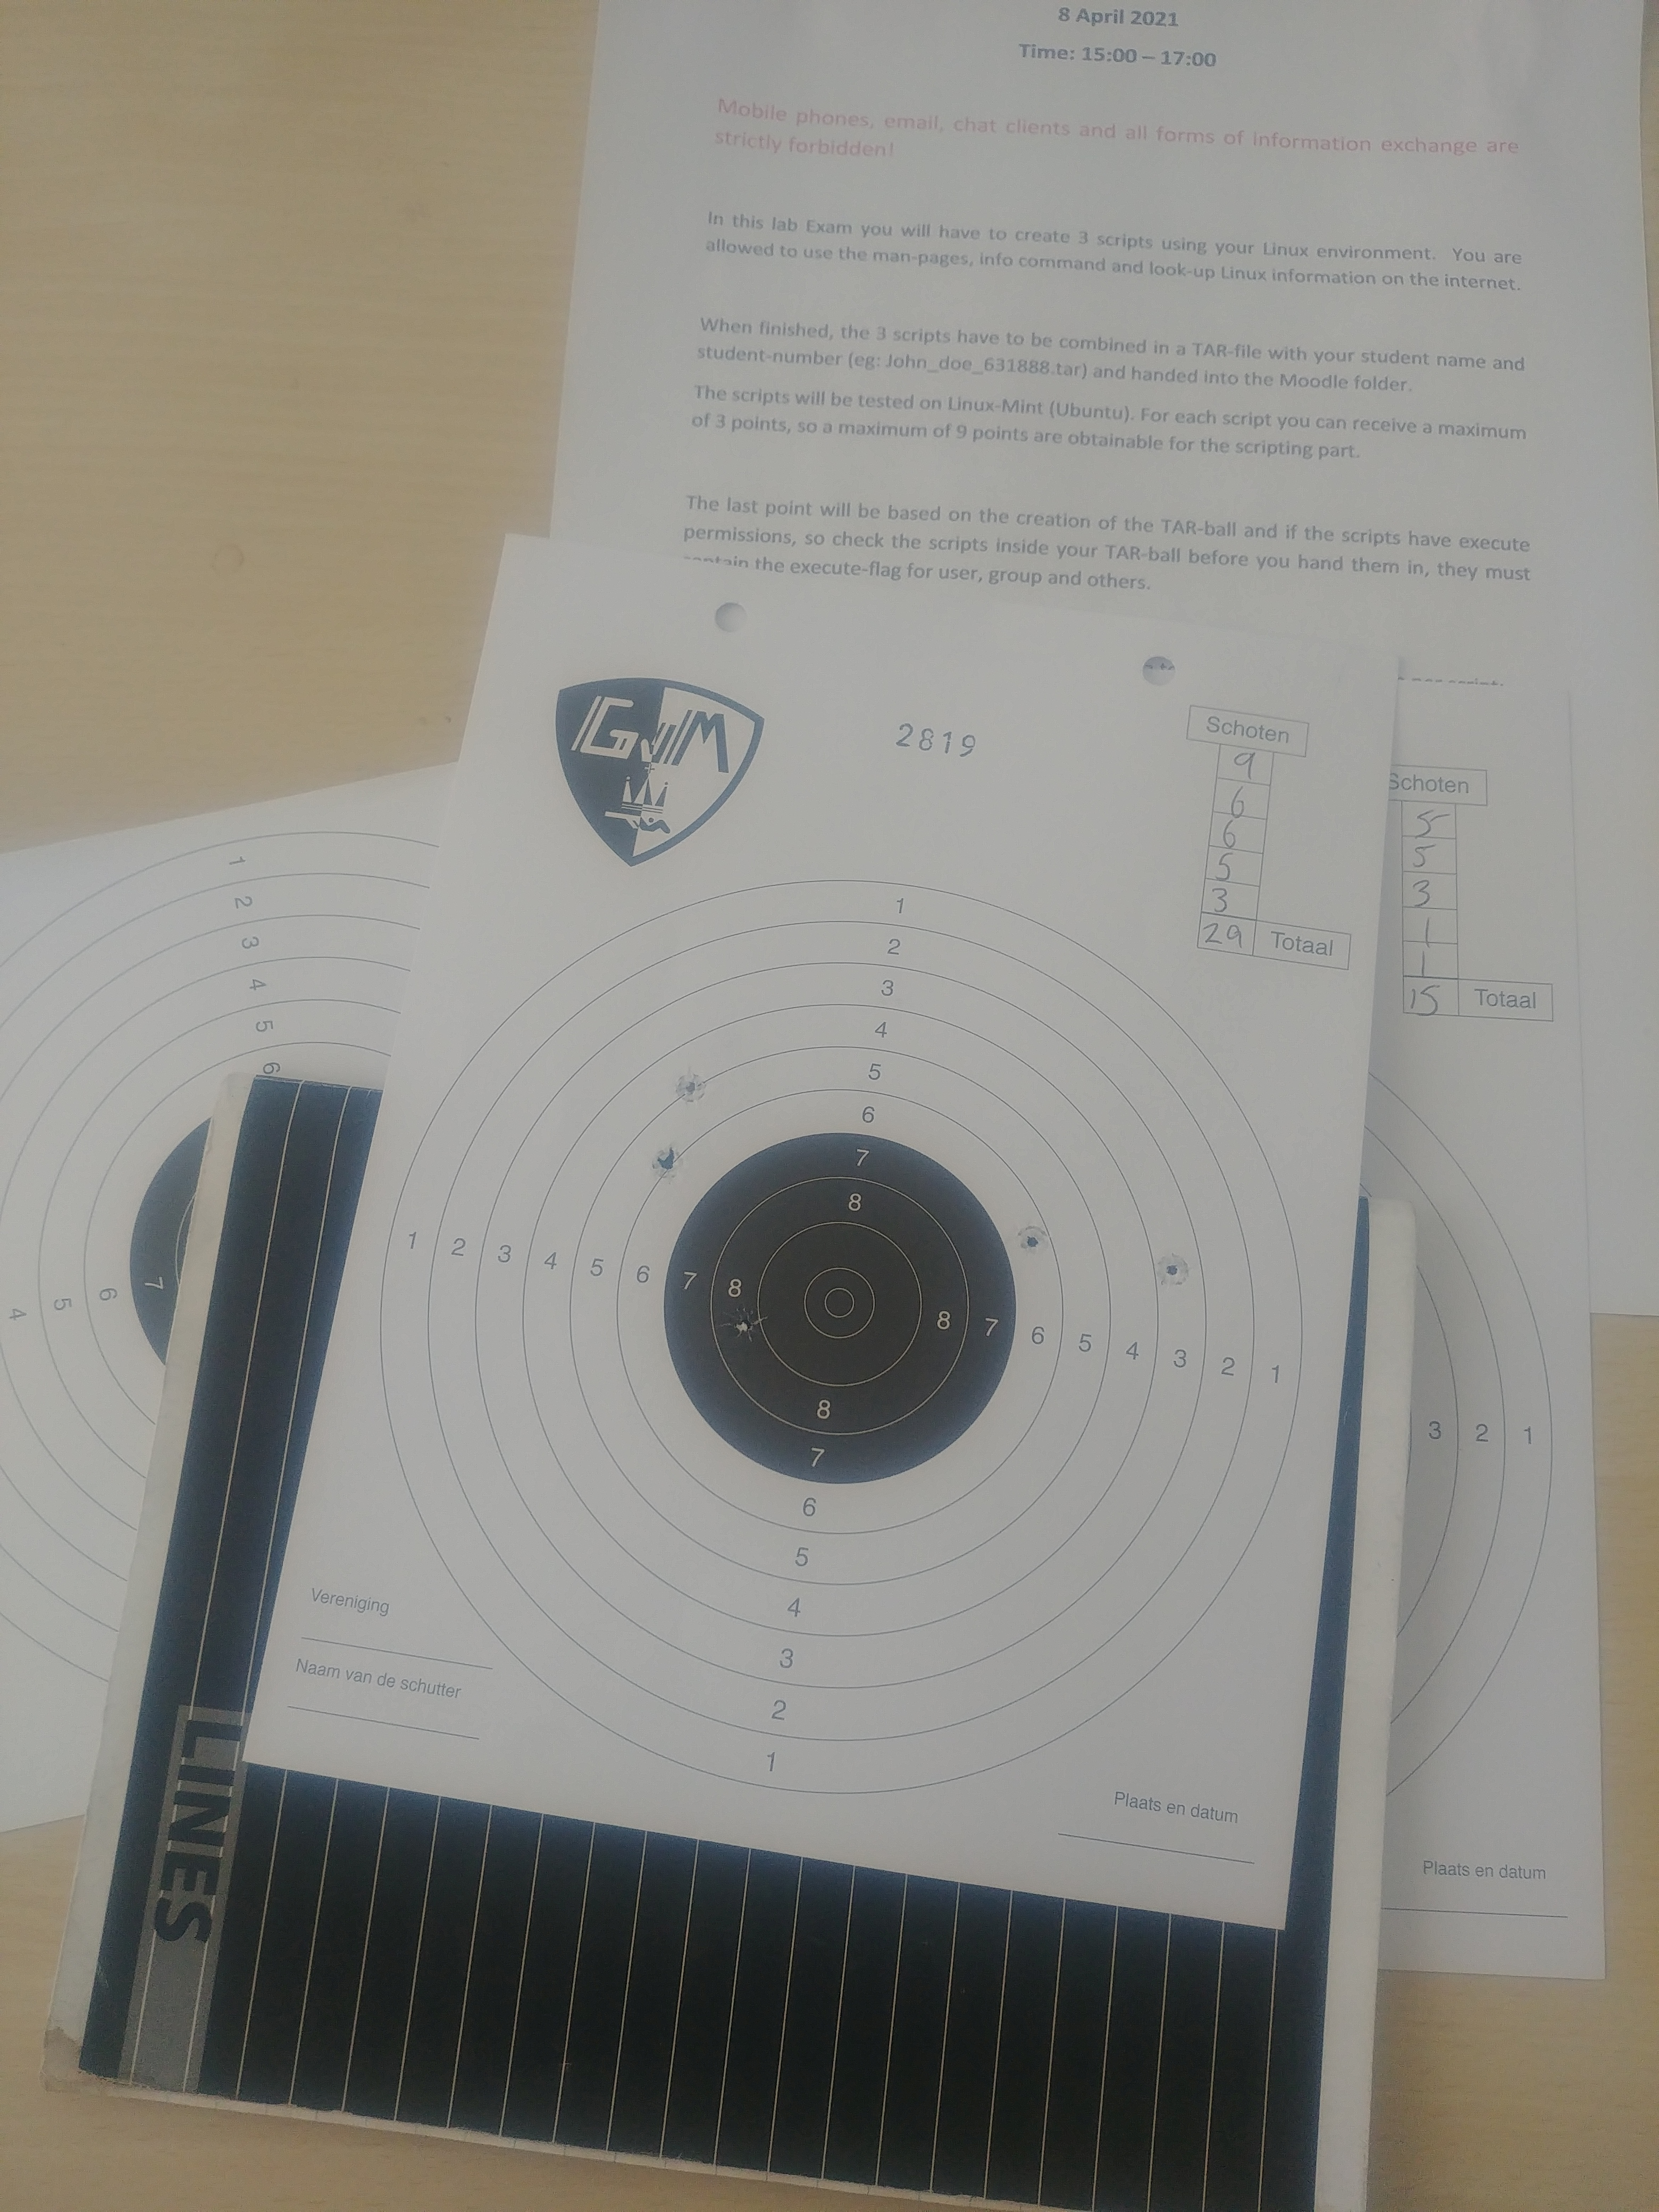center: (662, 1132, 1016, 1484)
out: (378, 880, 1303, 1794)
shot: (714, 1305, 770, 1343), (650, 1141, 687, 1184), (673, 1064, 709, 1104), (1155, 1251, 1190, 1289), (1012, 1223, 1051, 1256)
target: (803, 1266, 875, 1339)
